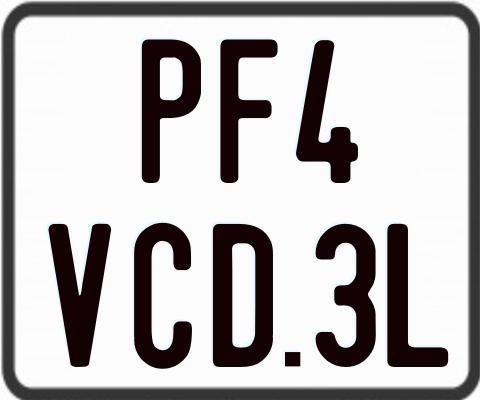3: (315, 223, 379, 366)
4: (294, 40, 359, 189)
C: (131, 223, 194, 372)
D: (212, 223, 275, 367)
F: (218, 39, 281, 185)
L: (387, 222, 451, 369)
P: (142, 36, 202, 181)
V: (46, 223, 112, 366)
